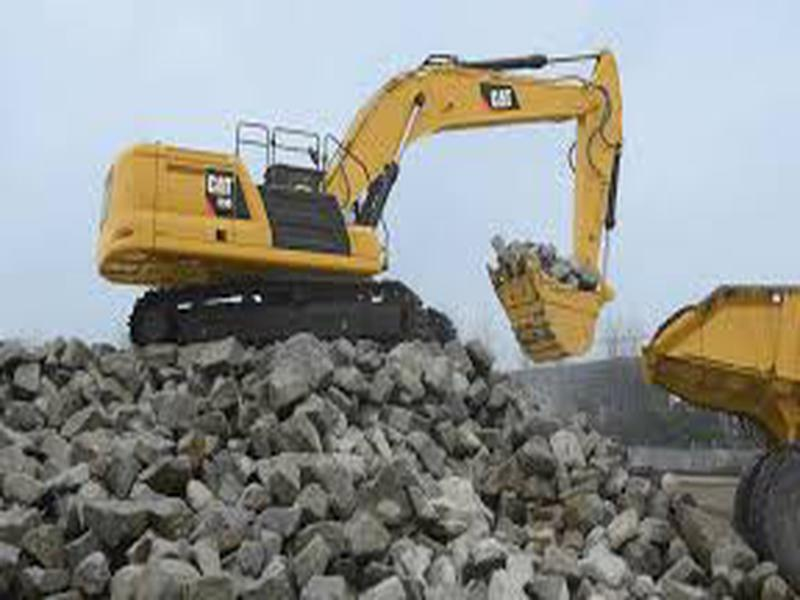shovel: (92, 42, 625, 361)
